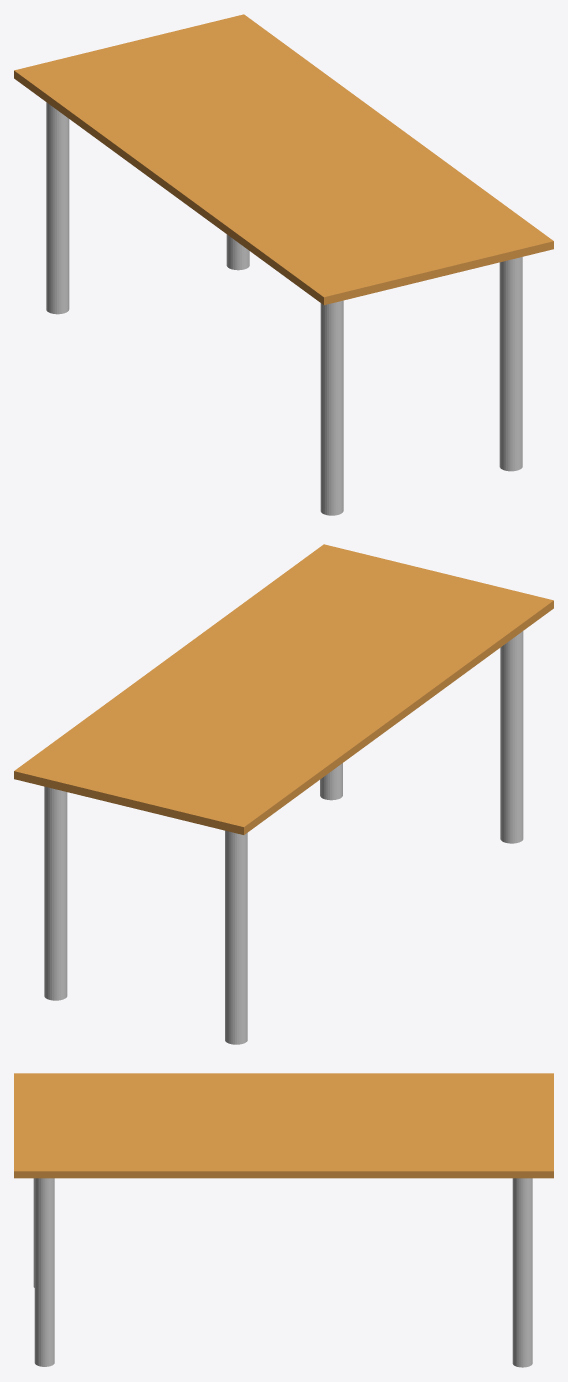
The model's file is Desk.glb.
The picture shows the model from 3 angles, top to bottom: view 1: azimuth 30°, elevation 25°; view 2: azimuth 150°, elevation 25°; view 3: azimuth 270°, elevation 25°; orthographic projection. The views are drawn at different scales.
Visible parts, largest first — view 1: DESK; view 2: DESK; view 3: DESK.
Part boxes in pixels (<box>): DESK: <box>14,14,553,515</box>; DESK: <box>14,544,553,1044</box>; DESK: <box>14,1073,553,1367</box>.
Bounding box in the file's own units: 0.75 × 0.7229 × 1.75.
